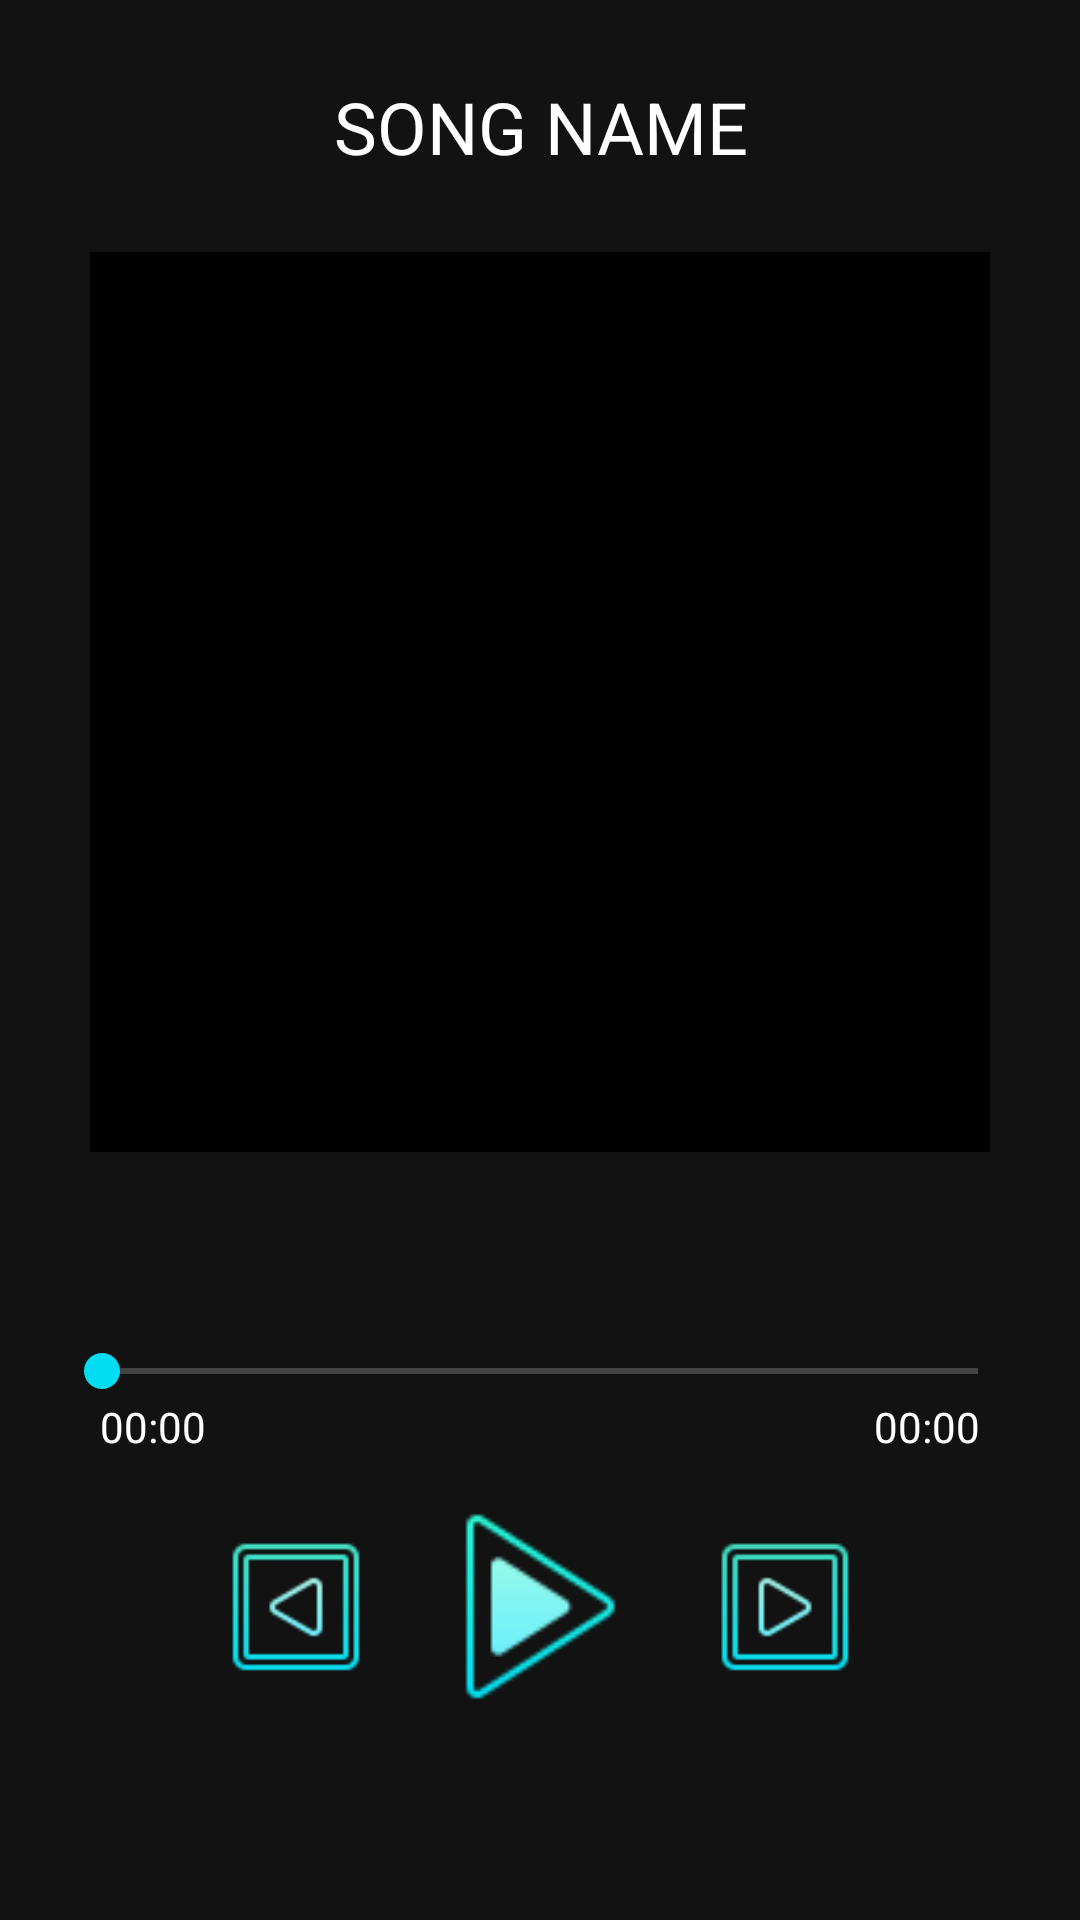

Icons on this 1080px×1920px Android screen, each with the point to tap as point (x, y):
next: point (785, 1607)
play: point (540, 1606)
previous: point (296, 1607)
